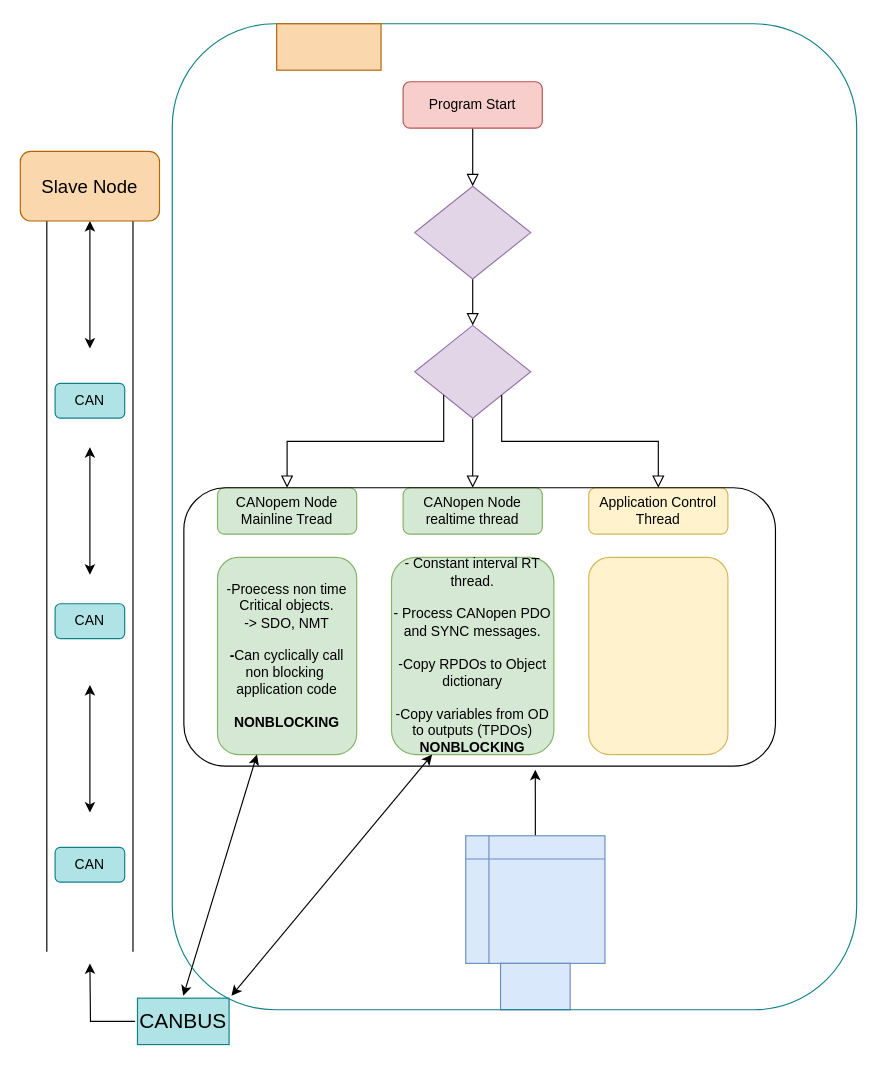
Image size: 877x1065. Some labels were removed from this diagram. The centre of each missing label's shape, as x and y in pixels:
CANopen init: (472,232)
Master Node: (328,46)
Master Object Dictionary: (535,899)
Run application code. - State machine loops: (658,655)
Shared memory: (534,986)
Start threads: (472,371)
